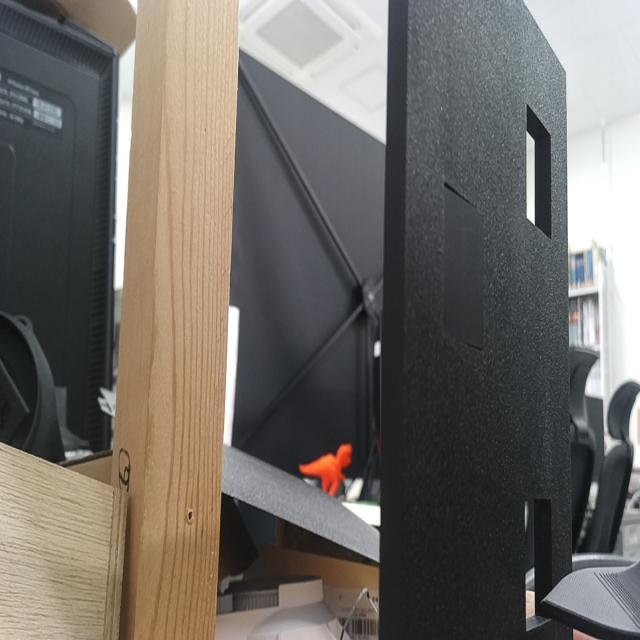Obstacle: (524, 499, 556, 630), (526, 105, 553, 235)
Wall: (401, 0, 574, 639)
